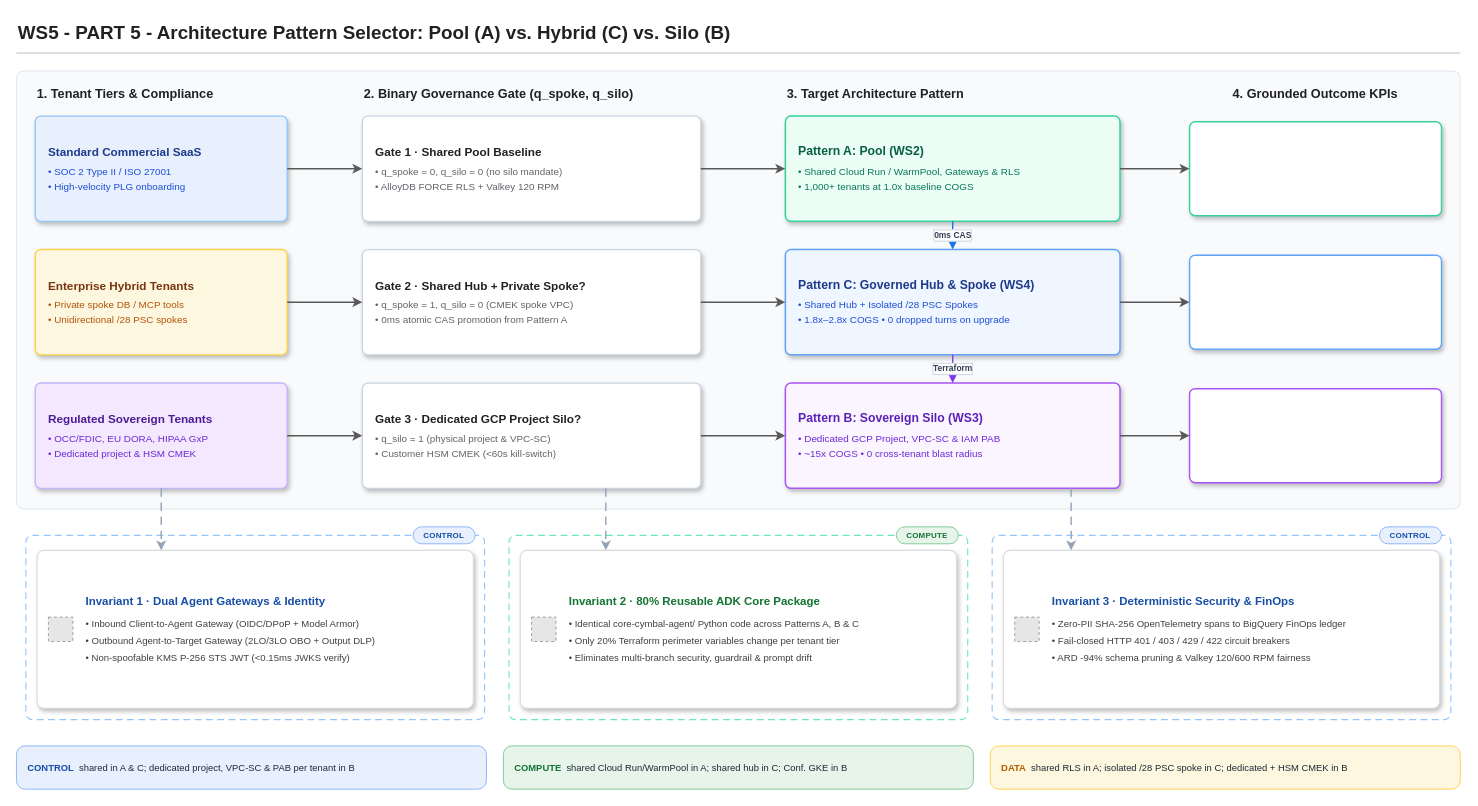
Image size: 1478x806. Some labels were removed from this diagram. Grey dashed boxes stand in for pictures. The centre of each missing label's shape, as x and y in pixels:
"1,000+ Tenants 1.0x Baseline COGS ~85% Prefix Cache" goes at (x=1316, y=170).
"1.8x–2.8x COGS 0ms Live Cutover Unidirectional /28 PSC Spokes" goes at (x=1316, y=303).
"~15x COGS · Full Silo 41.2s CMEK Halt Confidential GKE SEV-SNP" goes at (x=1316, y=437).
